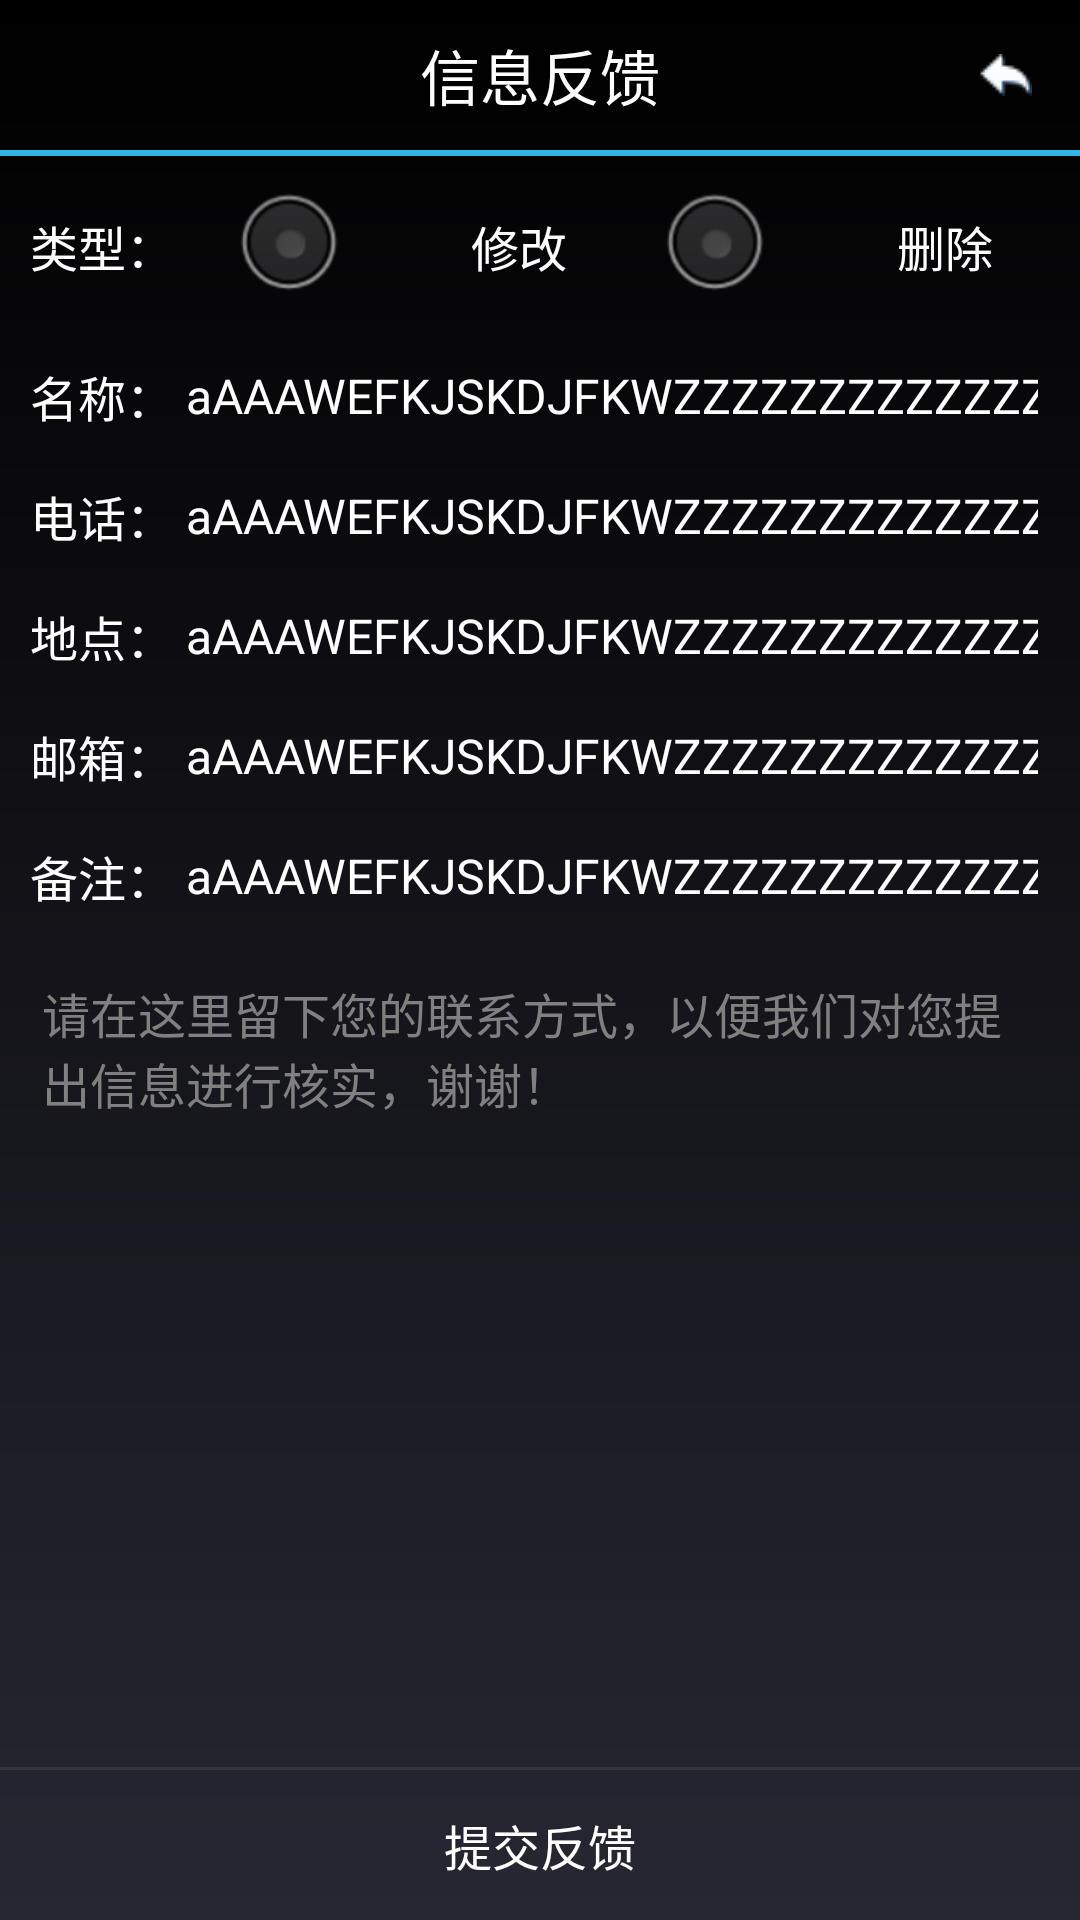

Icons on this 1080 × 1920 Android screen, each with its box as [x1,y1,x2,y2]:
back: [980,54,1032,96]
